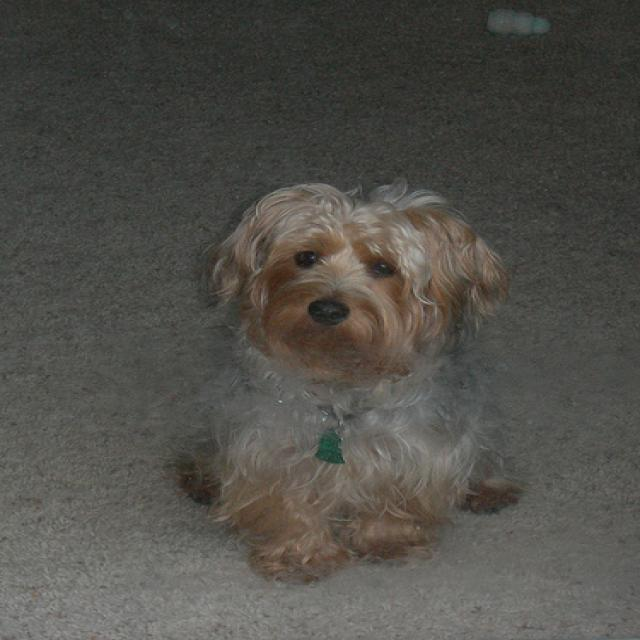dog-yorkshire_terrier: (195, 177, 522, 584)
